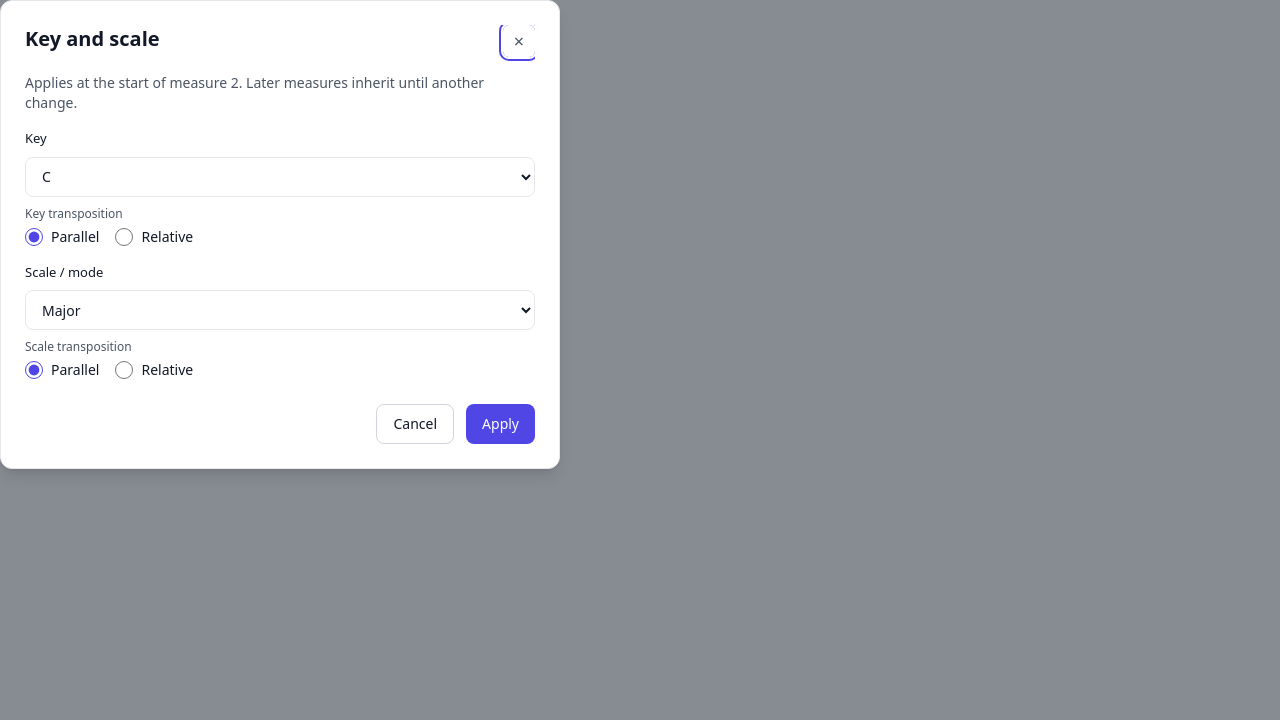
KeyScaleChangeDialog (TASK-5.5) › relative scale + minor from C major moves tonic to A (relative minor)
Click the radio button labelled "Relative" below "Scale transposition" at (124, 370), box 115,361 -> 133,379
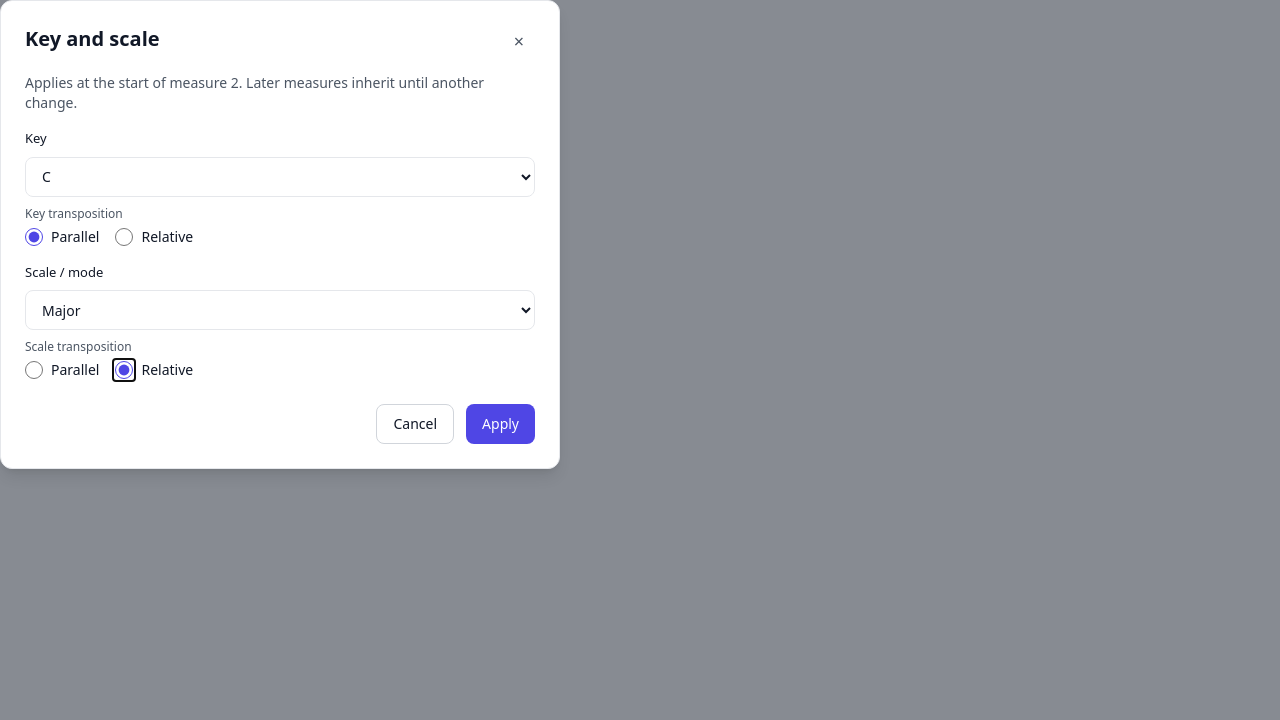
Select "Minor" in the dropdown labelled "Scale / mode" at (280, 310), box 25,290 -> 535,330
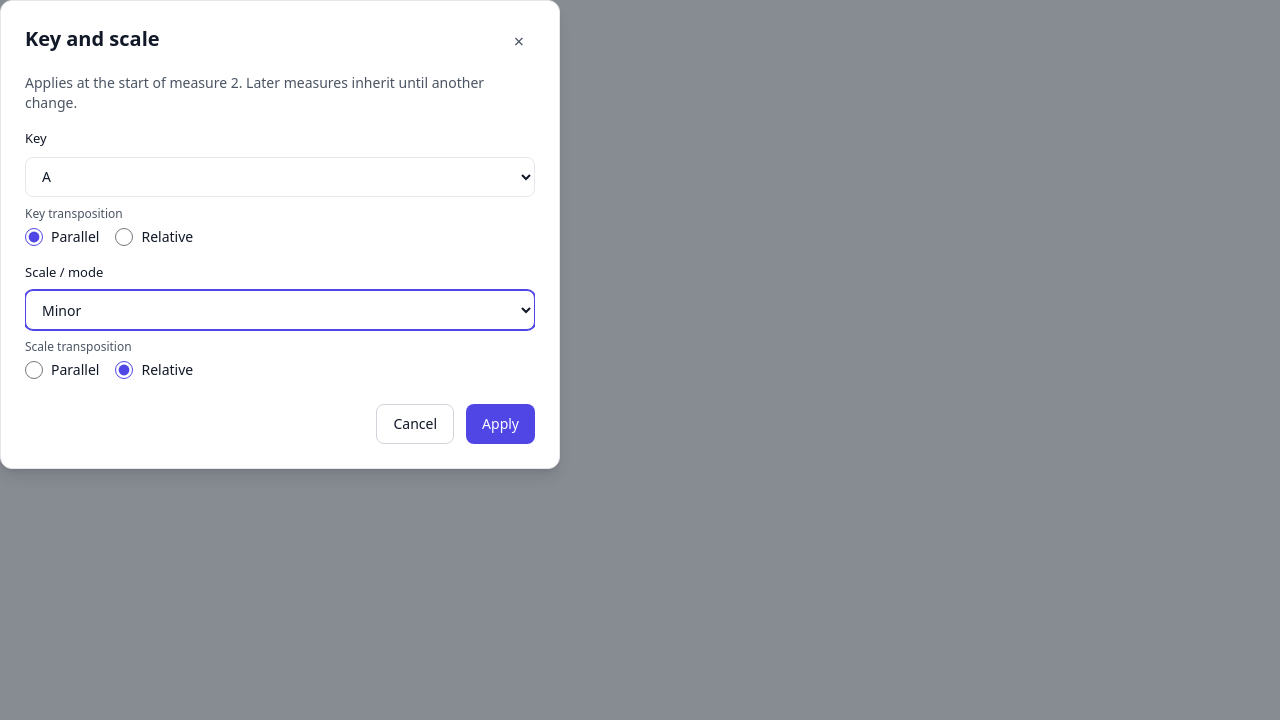
Expected: the dropdown labelled "Key" shows "A", 25,156 -> 535,196
